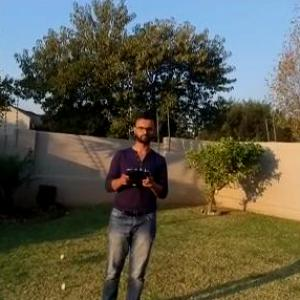follow: (99, 107, 172, 299)
